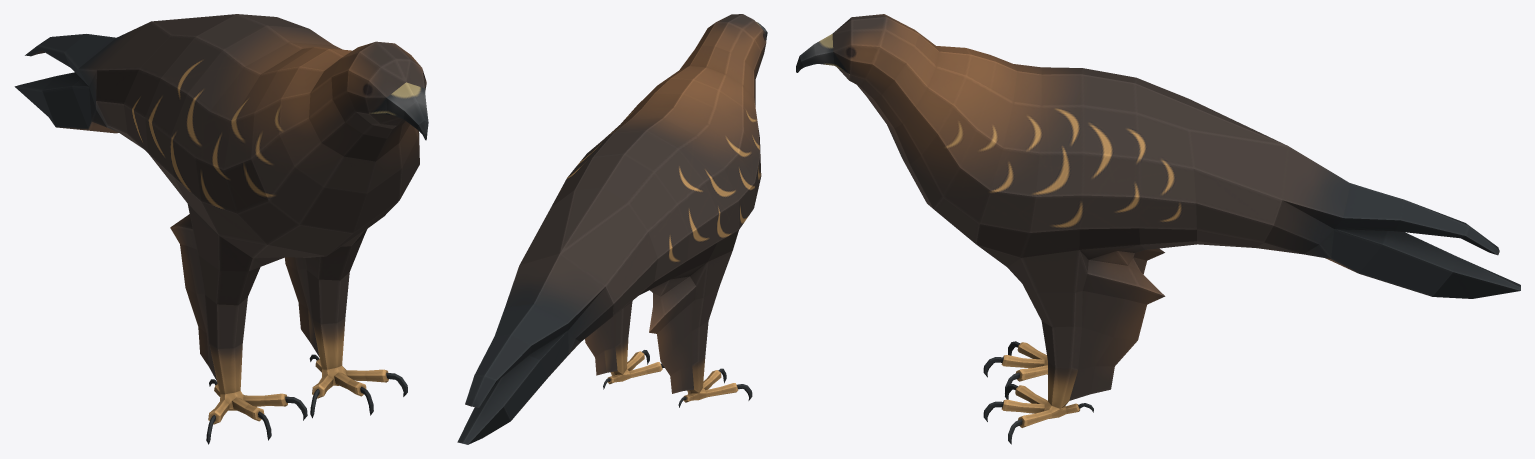
Rendered from eagle.glb.
3 renders of one model, left to right at view 1: azimuth 30°, elevation 25°; view 2: azimuth 150°, elevation 25°; view 3: azimuth 270°, elevation 25°, orthographic. The views are drawn at different scales.
Visible parts, largest first — view 1: GoldenEagle_mesh2; view 2: GoldenEagle_mesh2; view 3: GoldenEagle_mesh2.
Part boxes in pixels (x1,y1,x2,y2): GoldenEagle_mesh2: [14, 14, 428, 444]; GoldenEagle_mesh2: [457, 14, 767, 444]; GoldenEagle_mesh2: [796, 14, 1520, 444].
Bounding box in the file's own units: 5 × 10.25 × 17.47.
1 material, 1 textured.
